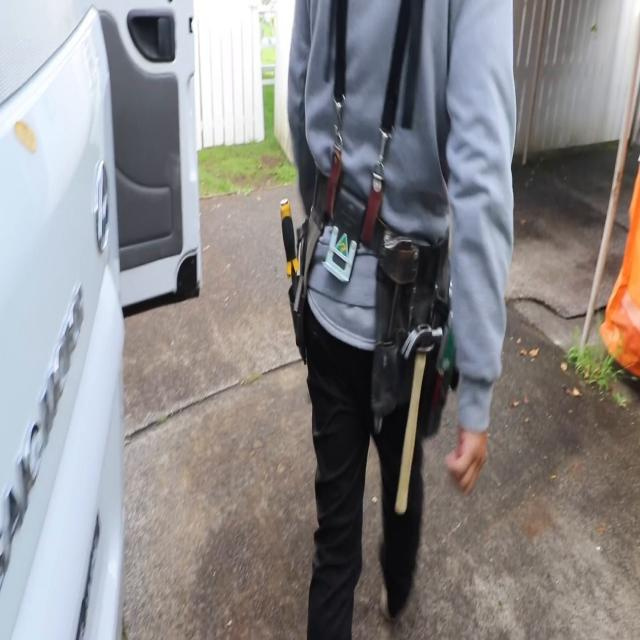hammer: (391, 319, 452, 519)
